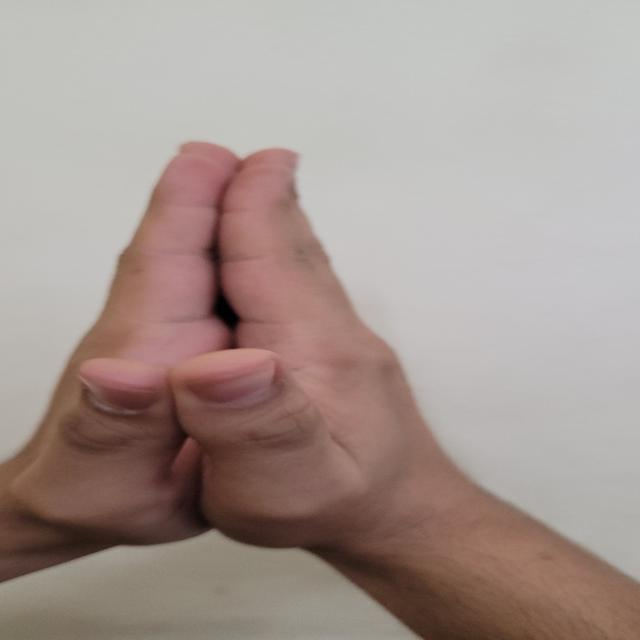Thank You: (1, 114, 565, 586)
